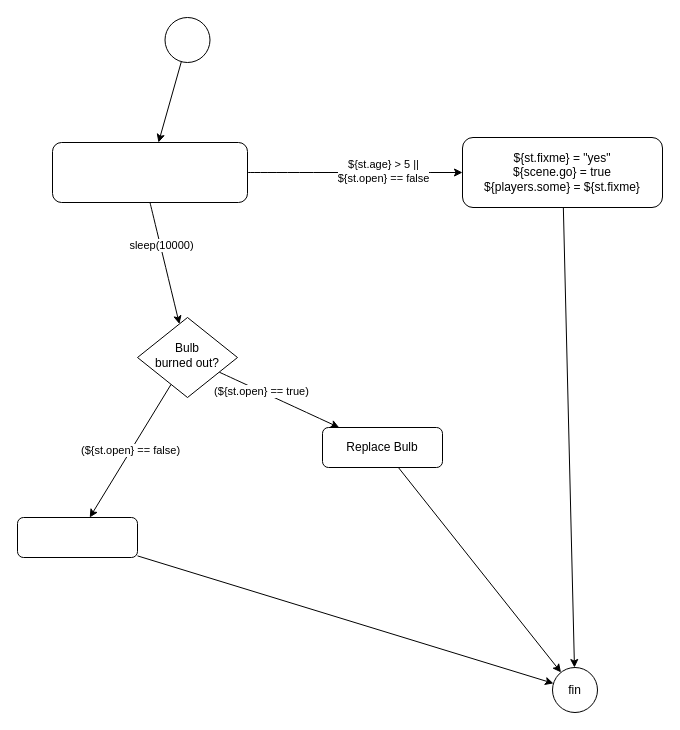
Image size: 680x730. Some labels were removed from this diagram. Each missing label, with the box of its shape:
inicio: (164, 16, 210, 62)
Repair Lamp: (16, 516, 138, 558)
